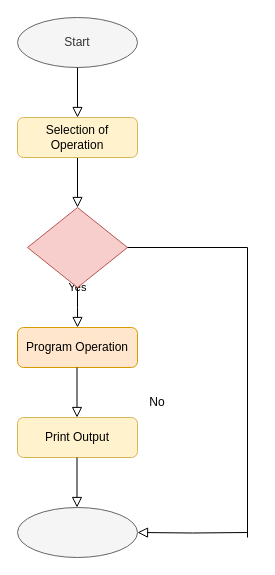
Some shapes in this 275 by 575 pixel diagram are drawn without their labels. The shapes that lost their labels are listed below. From the top down, each one's box as (x1, y1, x2, y2) in pixels, then its label:
(26, 206, 128, 288): If Selected number is from 1to 5
(16, 506, 138, 558): End
